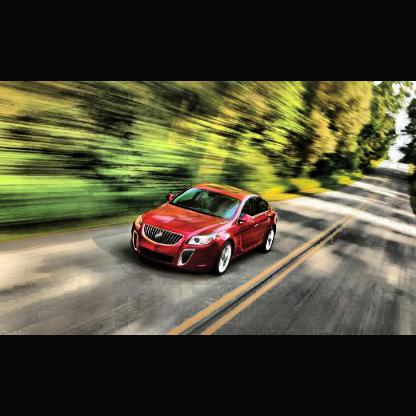Buick Regal GS 2012: (131, 183, 282, 275)
